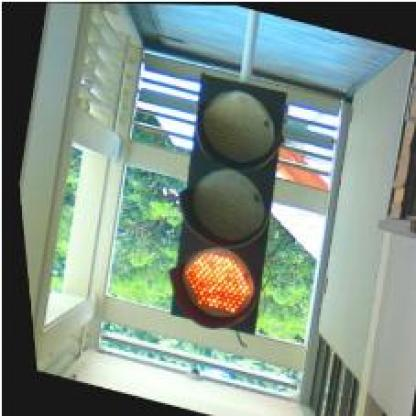red: (134, 68, 310, 343)
